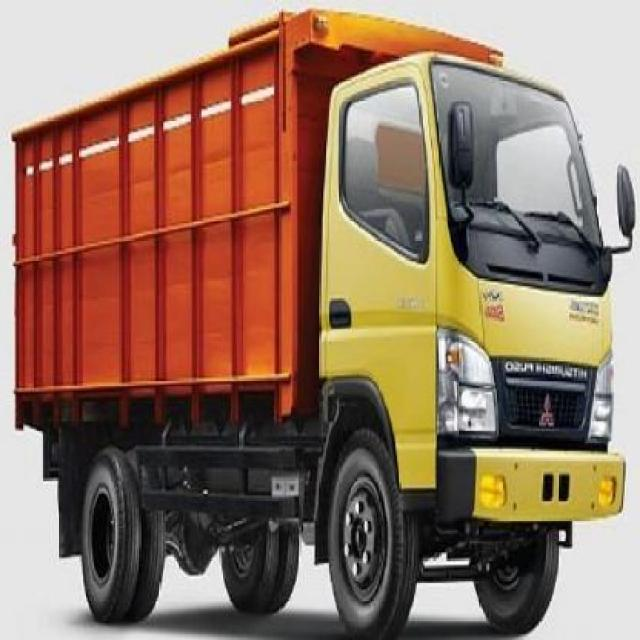truck: (15, 3, 636, 640)
